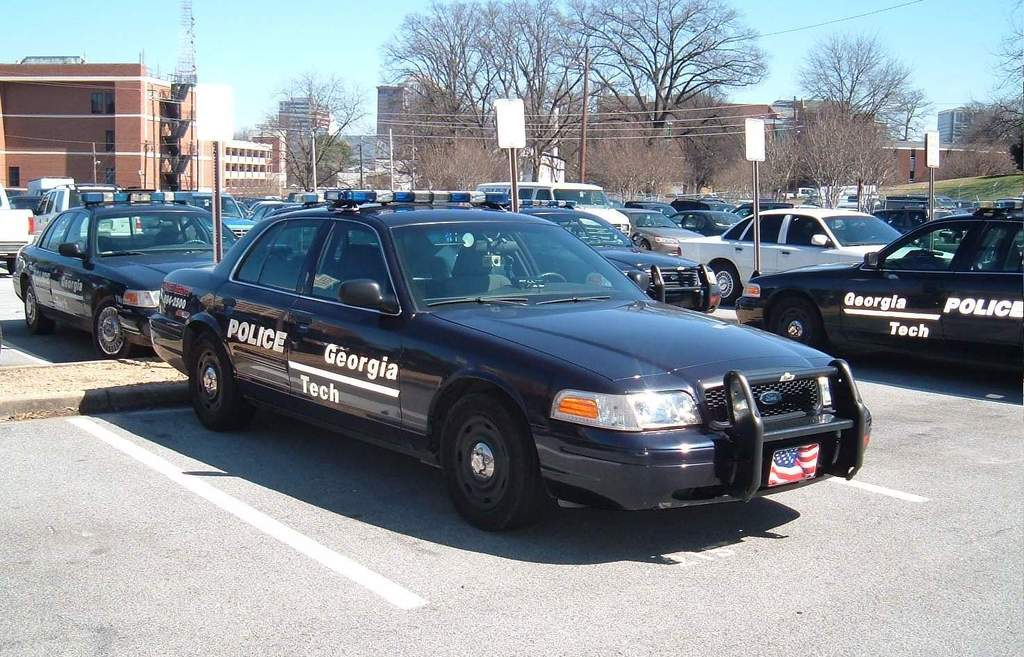Car: (150, 200, 817, 520), (736, 194, 1023, 357), (15, 207, 232, 361), (676, 202, 962, 299), (508, 206, 725, 312), (510, 177, 640, 233), (30, 186, 116, 237), (624, 207, 701, 260), (180, 191, 253, 239), (0, 186, 33, 268), (874, 204, 957, 233), (664, 211, 741, 236), (246, 202, 314, 224)
